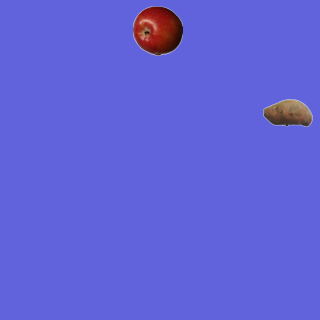Apple Braeburn: (132, 5, 182, 55)
Potato Sweet: (262, 87, 312, 137)
